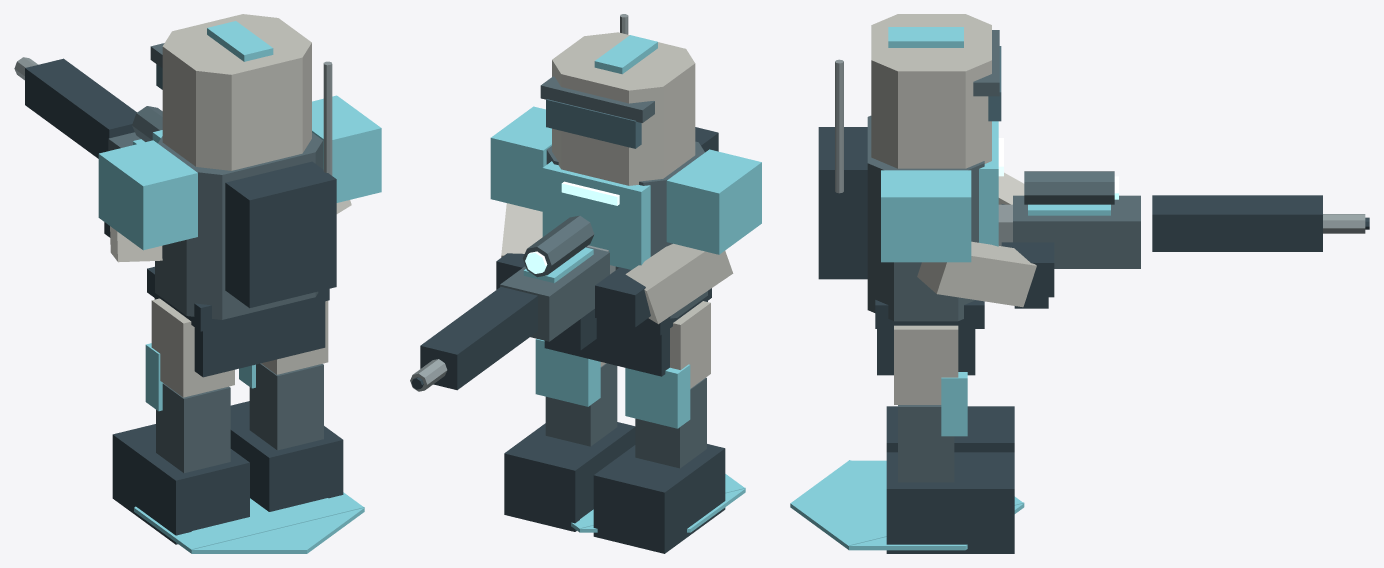
Rendered from fighter-rifle-low.glb.
The picture shows the model from 3 angles, left to right: view 1: azimuth 30°, elevation 25°; view 2: azimuth 150°, elevation 25°; view 3: azimuth 270°, elevation 25°; orthographic projection. The views are drawn at different scales.
Parts seen in each view (by area): view 1: asset_fighter-rifle__FP_Baked, leg_left__FP_Baked, asset_fighter-rifle__FP_Team, leg_right__FP_Baked, weapon__FP_Baked, Hexagon, Triangle, knee; view 2: asset_fighter-rifle__FP_Baked, asset_fighter-rifle__FP_Team, leg_left__FP_Baked, weapon__FP_Baked, leg_right__FP_Baked, knee, knee.001, Hexagon, chest_light, accent; view 3: asset_fighter-rifle__FP_Baked, weapon__FP_Baked, leg_right__FP_Baked, asset_fighter-rifle__FP_Team, Hexagon, leg_left__FP_Baked, Triangle, knee.001, accent.
Part boxes in pixels (left/top/right/bottom): asset_fighter-rifle__FP_Baked: left=104, top=14, right=351, bottom=377; leg_left__FP_Baked: left=112, top=298, right=249, bottom=544; asset_fighter-rifle__FP_Team: left=98, top=21, right=381, bottom=250; leg_right__FP_Baked: left=230, top=300, right=343, bottom=511; weapon__FP_Baked: left=14, top=57, right=162, bottom=158; Hexagon: left=134, top=492, right=364, bottom=553; Triangle: left=191, top=498, right=364, bottom=549; knee: left=145, top=343, right=163, bottom=411; asset_fighter-rifle__FP_Baked: left=496, top=14, right=733, bottom=376; asset_fighter-rifle__FP_Team: left=490, top=35, right=761, bottom=269; leg_left__FP_Baked: left=593, top=301, right=725, bottom=553; weapon__FP_Baked: left=410, top=215, right=615, bottom=391; leg_right__FP_Baked: left=504, top=362, right=635, bottom=531; knee: left=625, top=364, right=690, bottom=428; knee.001: left=535, top=338, right=600, bottom=406; Hexagon: left=571, top=474, right=745, bottom=532; chest_light: left=561, top=181, right=619, bottom=205; accent: left=523, top=247, right=593, bottom=283; asset_fighter-rifle__FP_Baked: left=818, top=14, right=1054, bottom=375; weapon__FP_Baked: left=998, top=171, right=1369, bottom=308; leg_right__FP_Baked: left=886, top=325, right=1014, bottom=553; asset_fighter-rifle__FP_Team: left=881, top=27, right=998, bottom=262; Hexagon: left=790, top=460, right=1024, bottom=550; leg_left__FP_Baked: left=886, top=406, right=1014, bottom=452; Triangle: left=849, top=460, right=1023, bottom=545; knee.001: left=941, top=372, right=967, bottom=436; accent: left=1028, top=204, right=1110, bottom=215.
Bounding box in the file's own units: 0.74 × 1.4 × 1.54.
